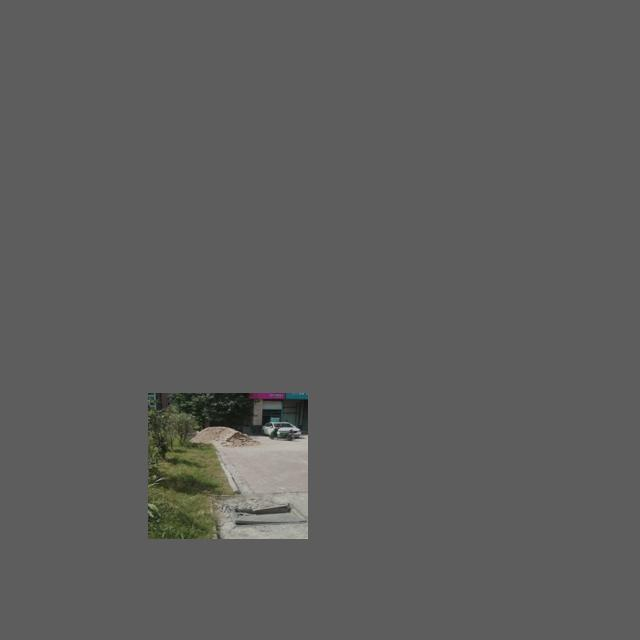broke: (223, 503, 306, 523)
